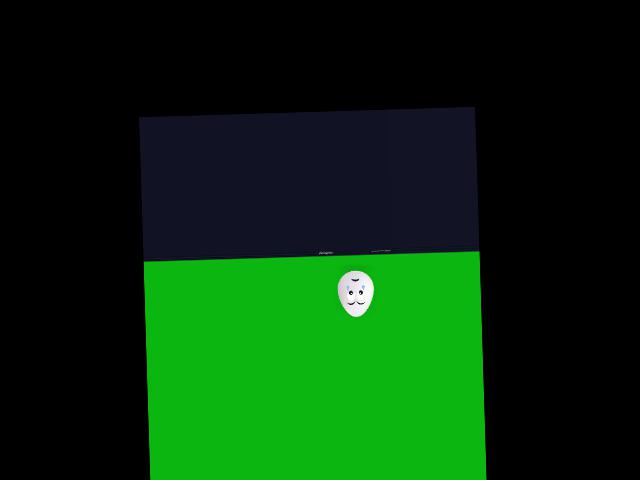egg: (337, 270, 374, 317)
